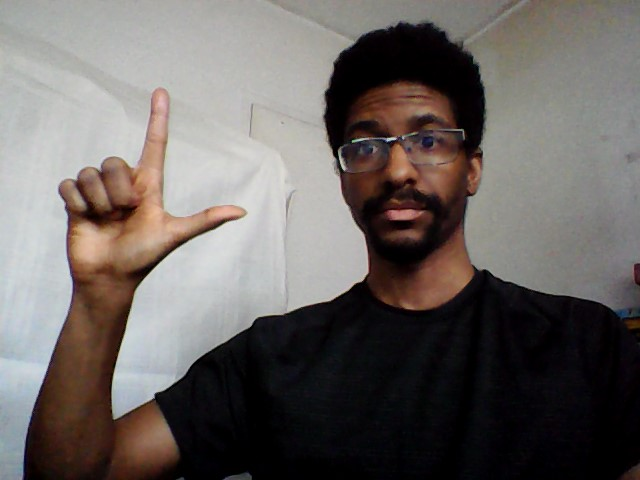l: (50, 85, 249, 283)
